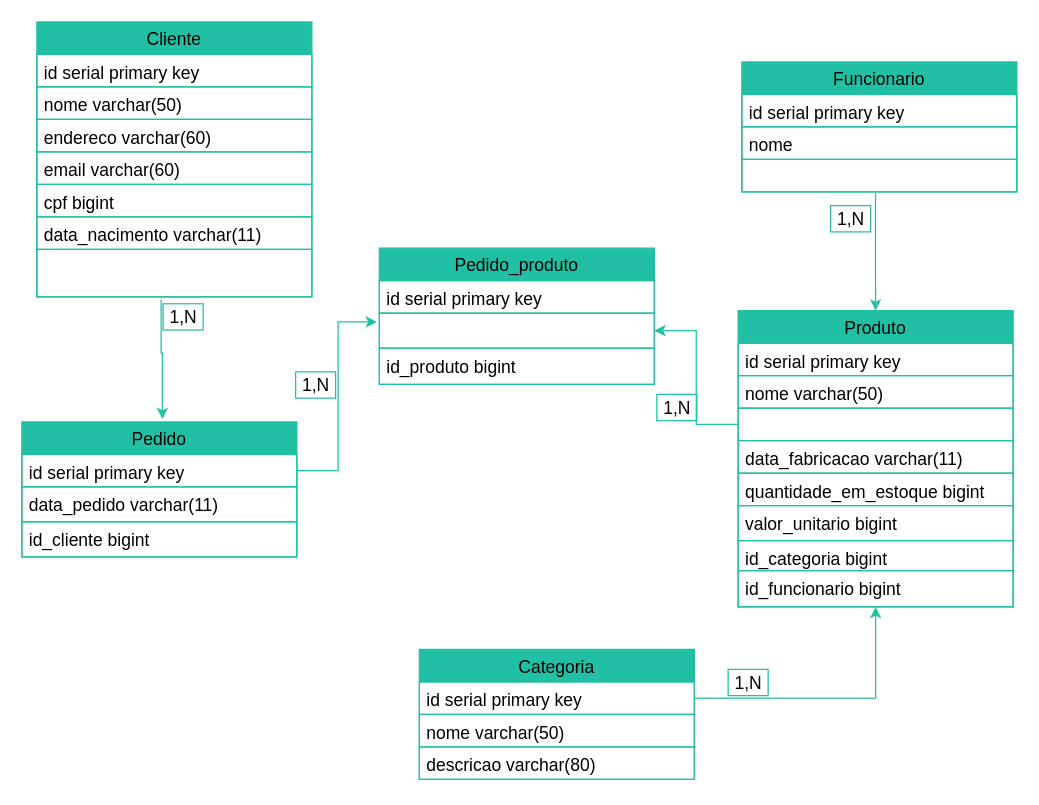
The diagram is 1039 pixels wide and 805 high, and some of its shapes have lost their labels. The centre of each missing label's shape, as x and y in pixels:
cpf: (x=879, y=175)
descricao varchar(70): (x=875, y=424)
id_pedido bigint: (x=516, y=330)
telefone varchar (11): (x=174, y=272)
